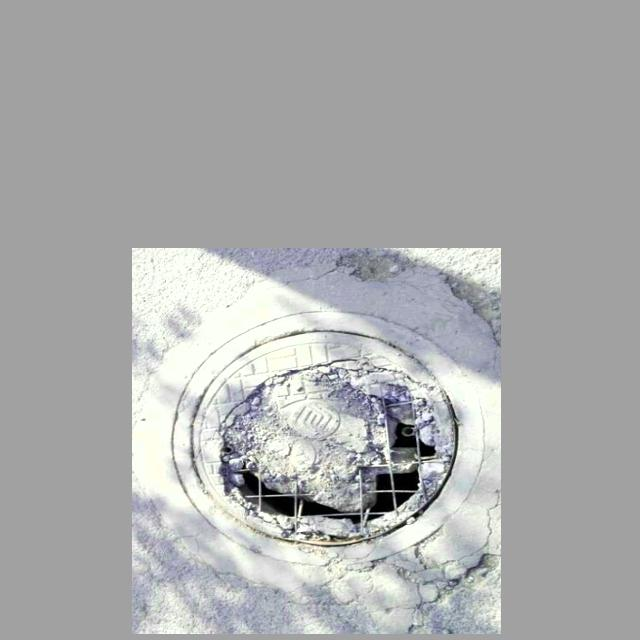broke: (173, 311, 485, 563)
